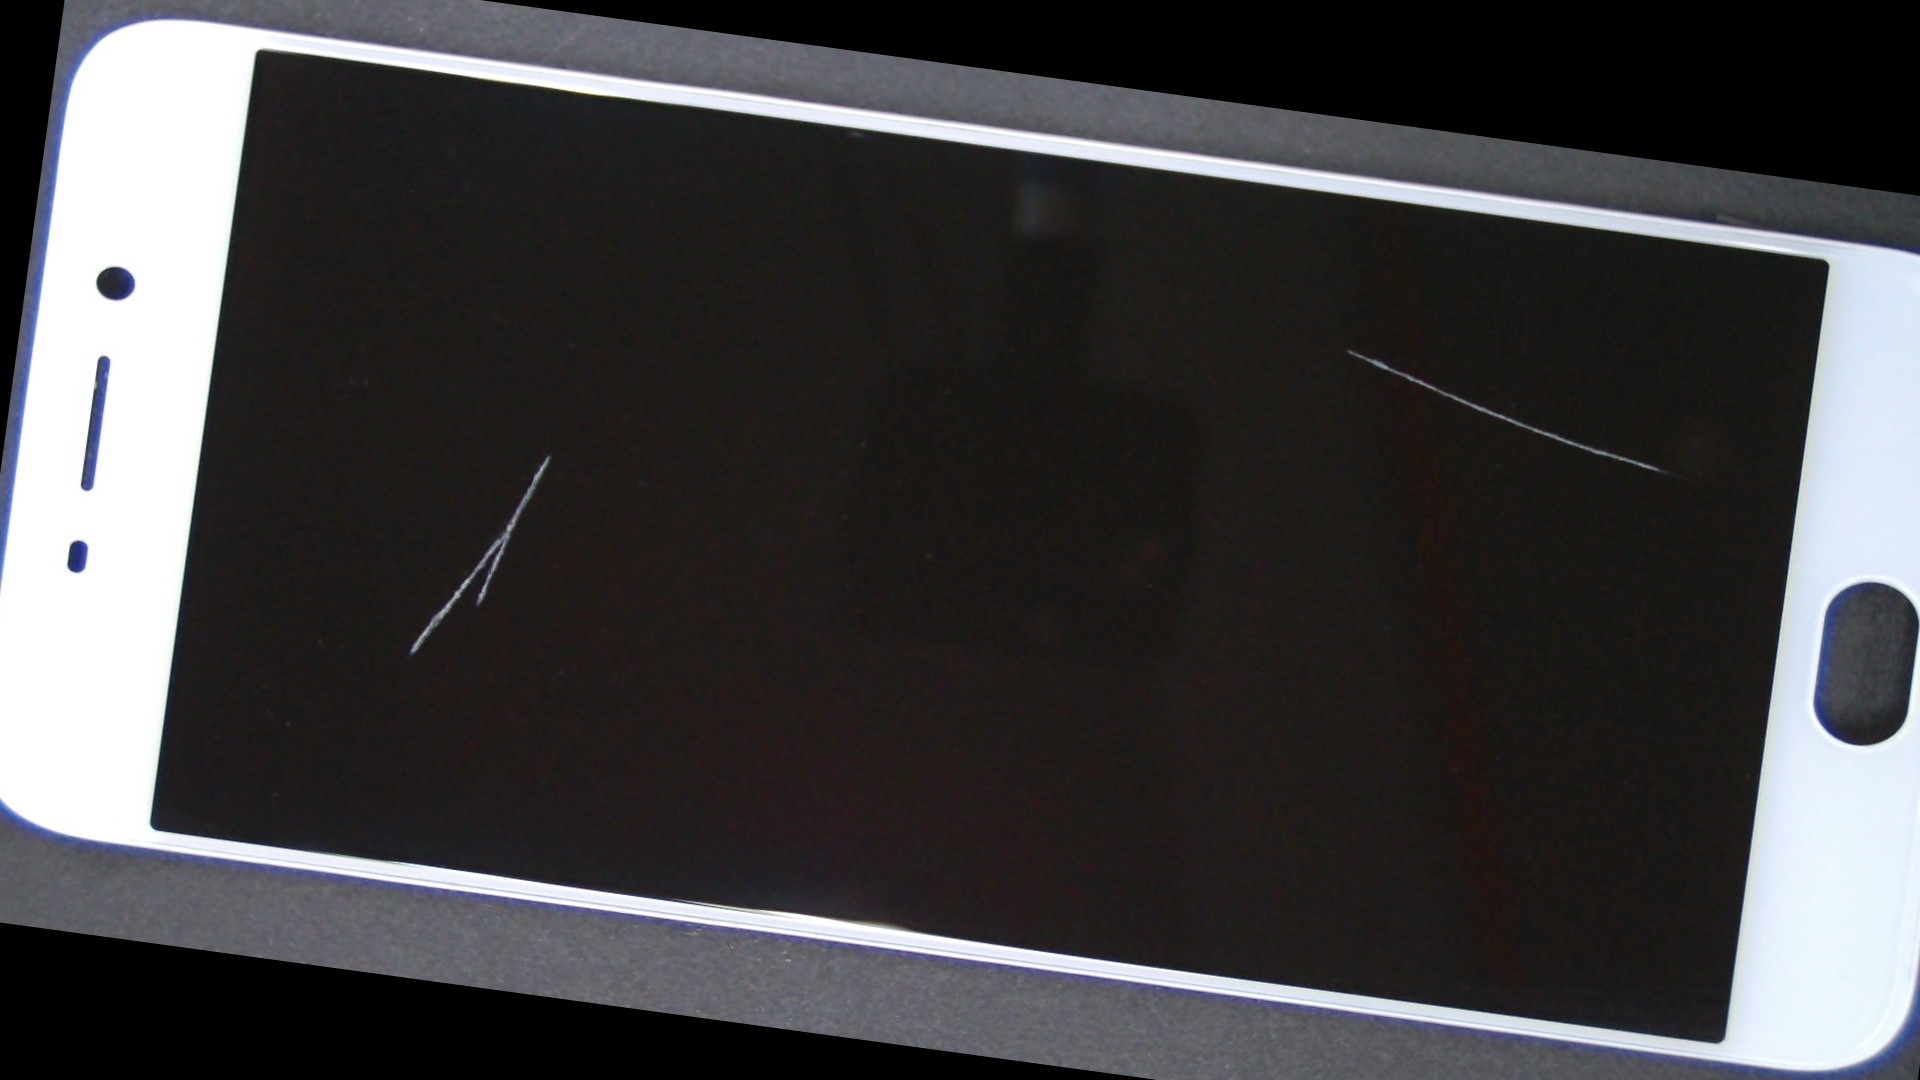oil: (679, 146, 1920, 553), (251, 199, 844, 711)
